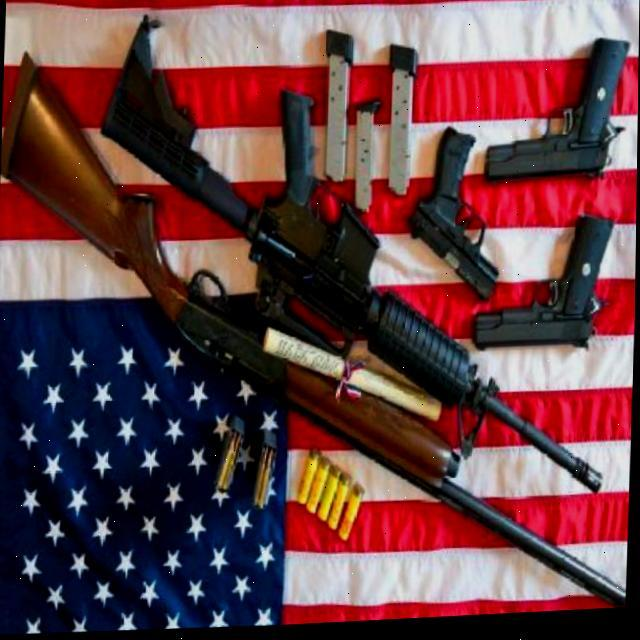gun: (483, 42, 633, 195), (472, 218, 616, 360), (404, 129, 502, 314)
